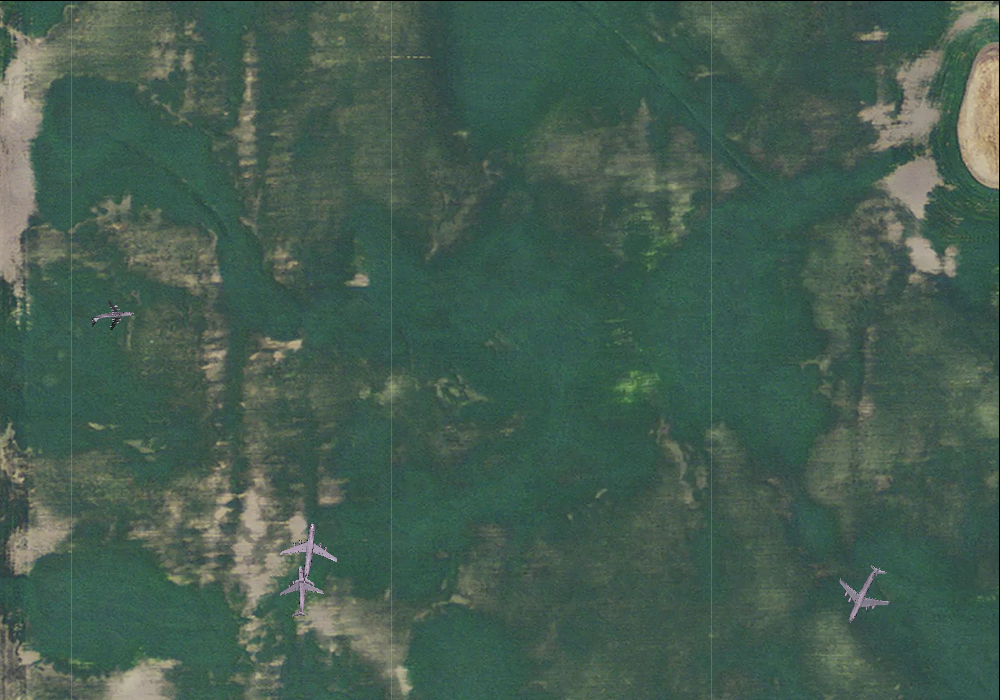plane: (824, 553, 905, 636), (275, 519, 341, 589), (274, 564, 325, 618), (88, 297, 134, 337)
